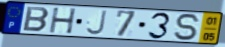3: (145, 11, 173, 40)
7: (116, 9, 138, 38)
B: (21, 6, 51, 34)
H: (49, 7, 78, 35)
J: (85, 9, 109, 36)
S: (173, 12, 202, 42)
